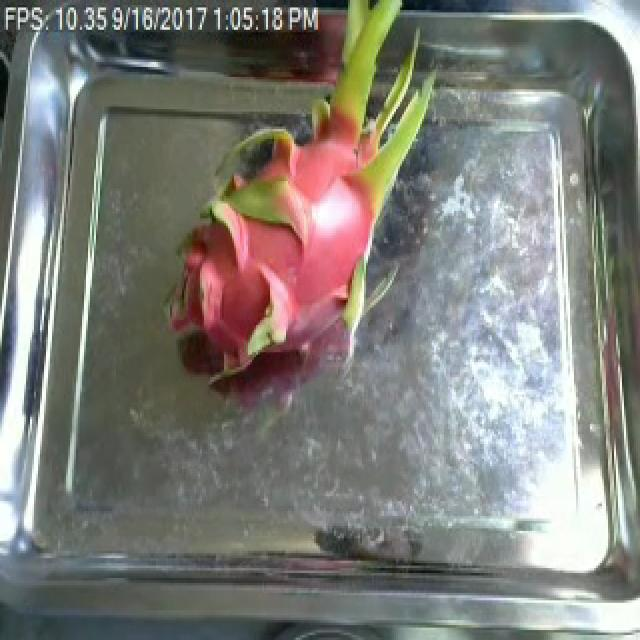fruit: (142, 5, 452, 394)
